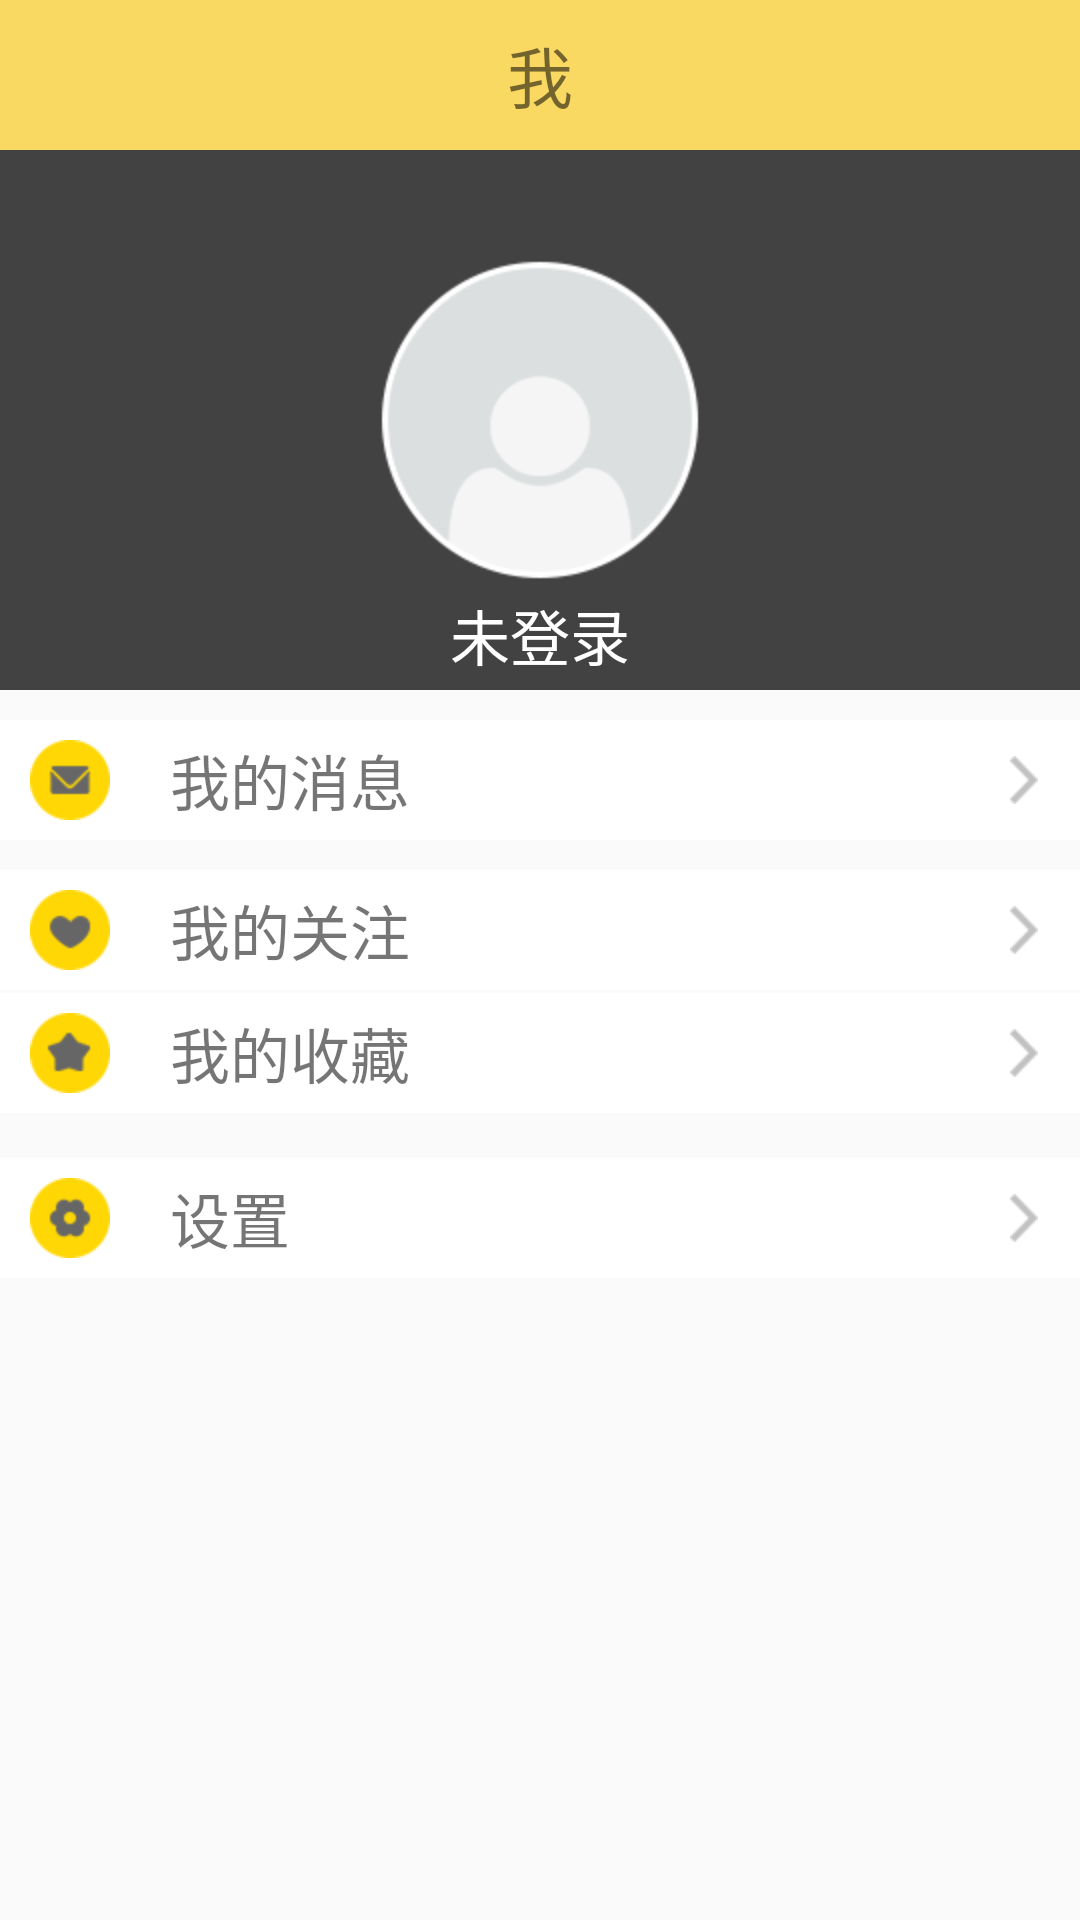

Where to tap for icons on this 1080*1920 app screen, as (x,y):
listitem next: (1024,780), (1024,930), (1024,1053), (1024,1218)
me item collection: (70,1053)
me item follow: (70,930)
me item message: (70,780)
me item setup: (70,1218)
personal headportrait: (540,420)
